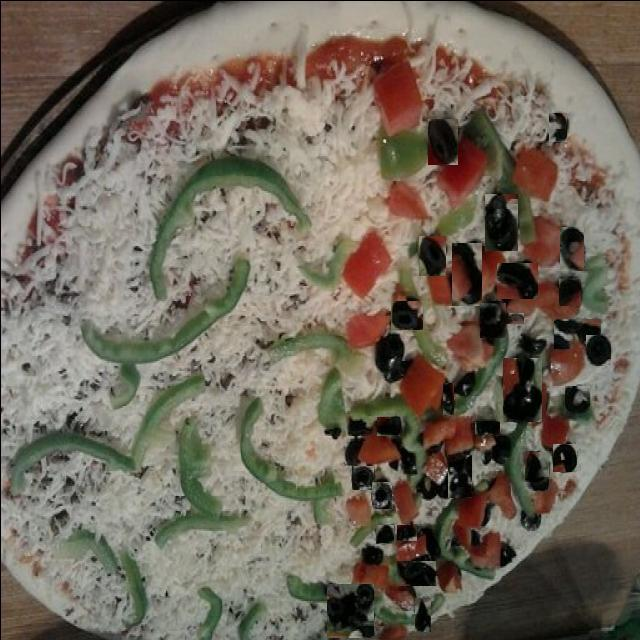olive: (324, 583, 372, 637), (502, 357, 541, 421), (451, 242, 481, 305), (484, 193, 517, 250), (375, 333, 409, 383), (494, 262, 536, 298), (553, 318, 600, 348), (427, 118, 457, 164), (418, 235, 445, 275), (559, 226, 583, 270), (447, 454, 471, 497), (395, 560, 435, 585), (389, 298, 422, 328), (479, 300, 505, 336), (524, 451, 548, 490), (481, 437, 510, 463), (585, 334, 610, 364), (420, 526, 440, 561), (552, 443, 576, 471), (562, 385, 588, 410), (558, 276, 580, 304), (414, 597, 430, 631), (371, 481, 391, 508), (452, 371, 474, 395), (351, 465, 373, 489), (548, 112, 566, 141), (516, 336, 546, 353), (360, 545, 384, 565), (344, 438, 362, 464), (398, 448, 415, 474), (520, 509, 540, 531), (376, 416, 399, 435), (442, 382, 453, 414), (348, 419, 370, 435), (375, 524, 393, 543), (474, 421, 499, 434), (396, 524, 416, 540), (504, 312, 522, 323)
pizza: (0, 0, 639, 640)
